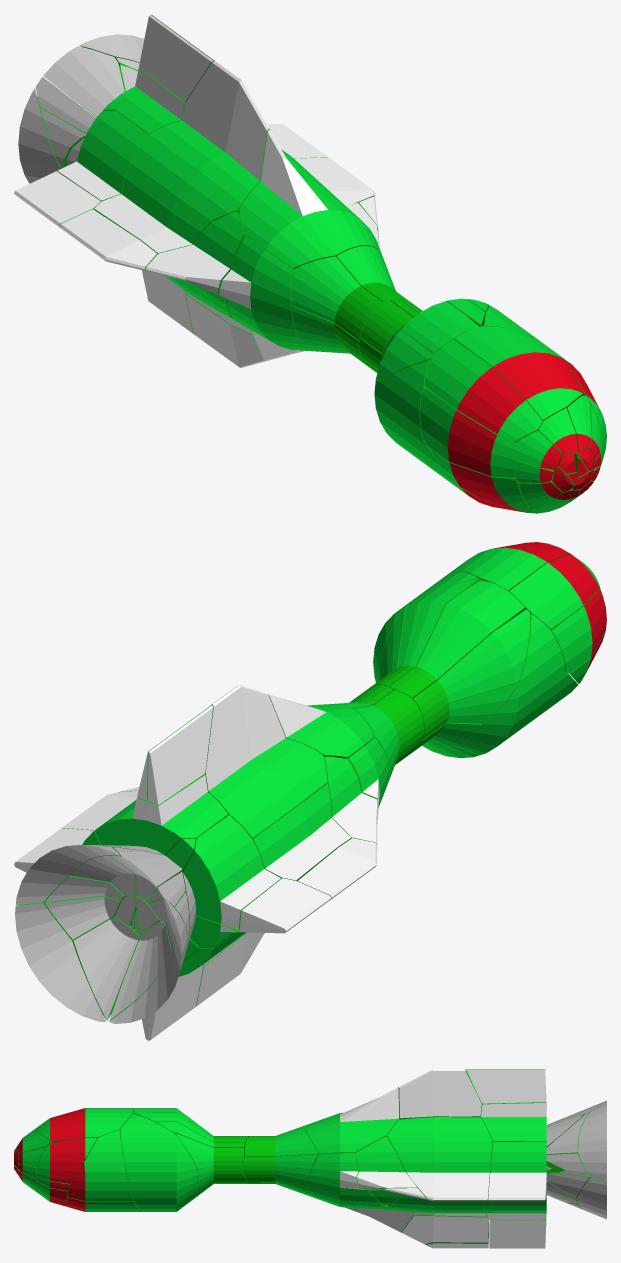
The model's file is Rocket2Broken.fbx.
3 renders of one model, top to bottom at view 1: azimuth 30°, elevation 25°; view 2: azimuth 150°, elevation 25°; view 3: azimuth 270°, elevation 25°, orthographic. The views are drawn at different scales.
Visible parts, largest first — view 1: Cylinder.001_cell.037, Cylinder.001_cell.006, Cylinder.001_cell.039, Cylinder.001_cell.034, Cylinder.001_cell.095, Cylinder.001_cell.013, Cylinder.001_cell.092, Cylinder.001_cell.075, Cylinder.001_cell.055, Cylinder.001_cell.071, Cylinder.001_cell.001, Cylinder.001_cell.025 (+23 smaller); view 2: Cylinder.001_cell.037, Cylinder.001_cell.075, Cylinder.001_cell.063, Cylinder.001_cell.045, Cylinder.001_cell.025, Cylinder.001_cell.038, Cylinder.001_cell.068, Cylinder.001_cell.013, Cylinder.001_cell.006, Cylinder.001_cell.024, Cylinder.001_cell.039, Cylinder.001_cell.082 (+29 smaller); view 3: Cylinder.001_cell.077, Cylinder.001_cell.022, Cylinder.001_cell.006, Cylinder.001_cell.037, Cylinder.001_cell.080, Cylinder.001_cell.078, Cylinder.001_cell.045, Cylinder.001_cell.084, Cylinder.001_cell.145, Cylinder.001_cell.034, Cylinder.001_cell.126, Cylinder.001_cell.057 (+26 smaller).
Part boxes in pixels (x1,y1,x2,y2): Cylinder.001_cell.037: (132,61,269,220); Cylinder.001_cell.006: (239,129,377,268); Cylinder.001_cell.039: (424,339,542,442); Cylinder.001_cell.034: (454,326,583,421); Cylinder.001_cell.095: (219,236,303,343); Cylinder.001_cell.013: (94,163,213,254); Cylinder.001_cell.092: (420,387,515,478); Cylinder.001_cell.075: (57,110,148,201); Cylinder.001_cell.055: (146,211,250,317); Cylinder.001_cell.071: (291,256,381,340); Cylinder.001_cell.001: (43,46,125,116); Cylinder.001_cell.025: (374,360,435,471); Cylinder.001_cell.037: (205,685,327,838); Cylinder.001_cell.075: (176,815,281,934); Cylinder.001_cell.063: (389,580,524,698); Cylinder.001_cell.045: (94,774,228,855); Cylinder.001_cell.025: (458,613,565,754); Cylinder.001_cell.038: (413,609,530,720); Cylinder.001_cell.068: (15,902,106,1021); Cylinder.001_cell.013: (252,783,351,881); Cylinder.001_cell.006: (267,693,374,758); Cylinder.001_cell.024: (72,916,151,1020); Cylinder.001_cell.039: (509,554,599,629); Cylinder.001_cell.082: (147,705,213,804); Cylinder.001_cell.077: (387,1117,492,1201); Cylinder.001_cell.022: (120,1114,198,1210); Cylinder.001_cell.006: (304,1087,398,1154); Cylinder.001_cell.037: (398,1069,482,1119); Cylinder.001_cell.080: (488,1142,551,1201); Cylinder.001_cell.078: (68,1129,133,1201); Cylinder.001_cell.045: (481,1102,582,1158); Cylinder.001_cell.084: (304,1153,383,1207); Cylinder.001_cell.145: (466,1069,546,1103); Cylinder.001_cell.034: (36,1108,133,1143); Cylinder.001_cell.126: (401,1215,488,1245); Cylinder.001_cell.057: (356,1136,416,1190).
Bounding box in the file's own units: 0.6505 × 0.6616 × 1.98.
